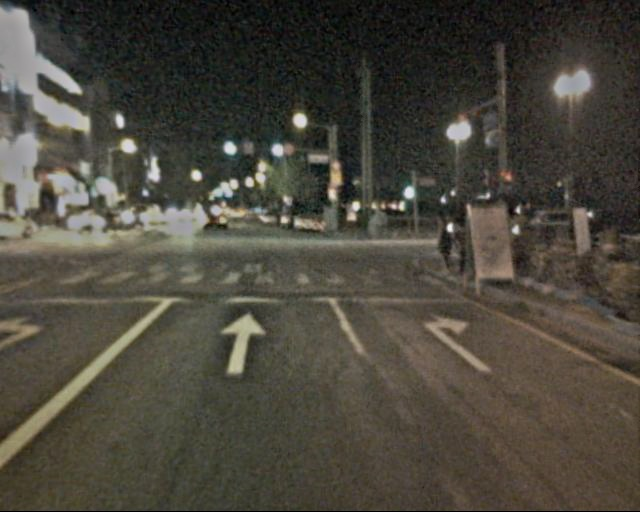person: (431, 211, 457, 276), (452, 215, 474, 283)
